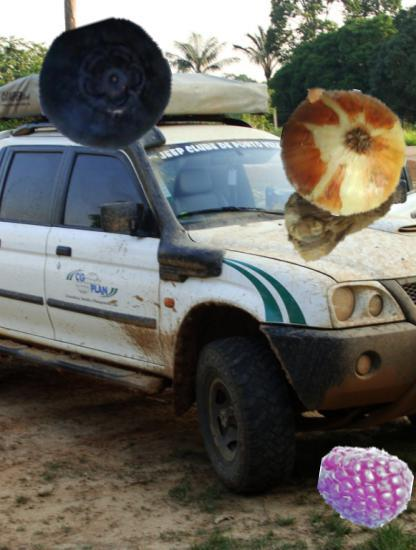Blueberry: (37, 19, 174, 156)
Ginger: (280, 153, 399, 272)
Onion: (279, 88, 408, 217)
Raspberry: (318, 440, 412, 534)
